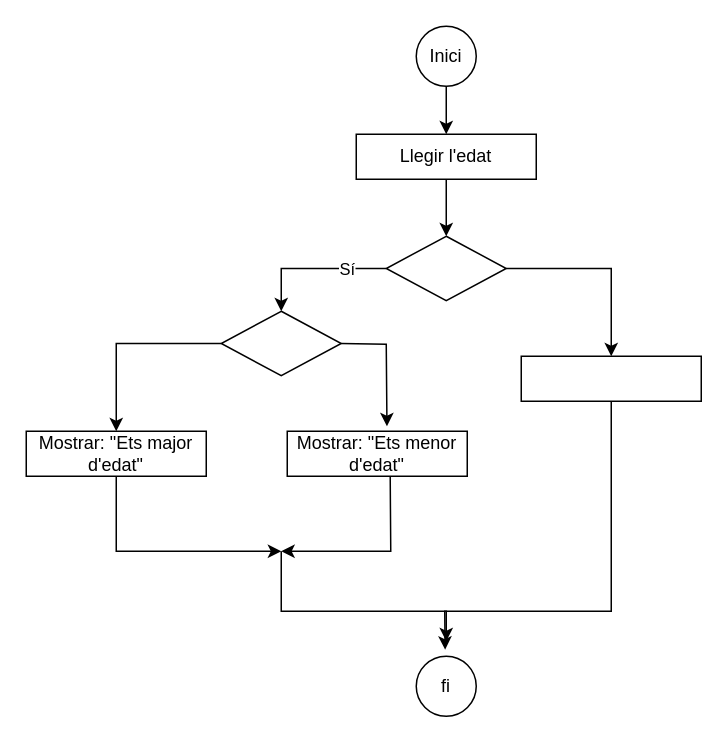
This 728x743 diagram has some shape labels left out. The box of each missing label's shape, as (x1, y1, x2, y2) in pixels:
edat > 0: (385, 235, 506, 301)
edat >=18: (220, 310, 341, 376)
Mostrar: "Edat no vàlida": (520, 355, 701, 401)
